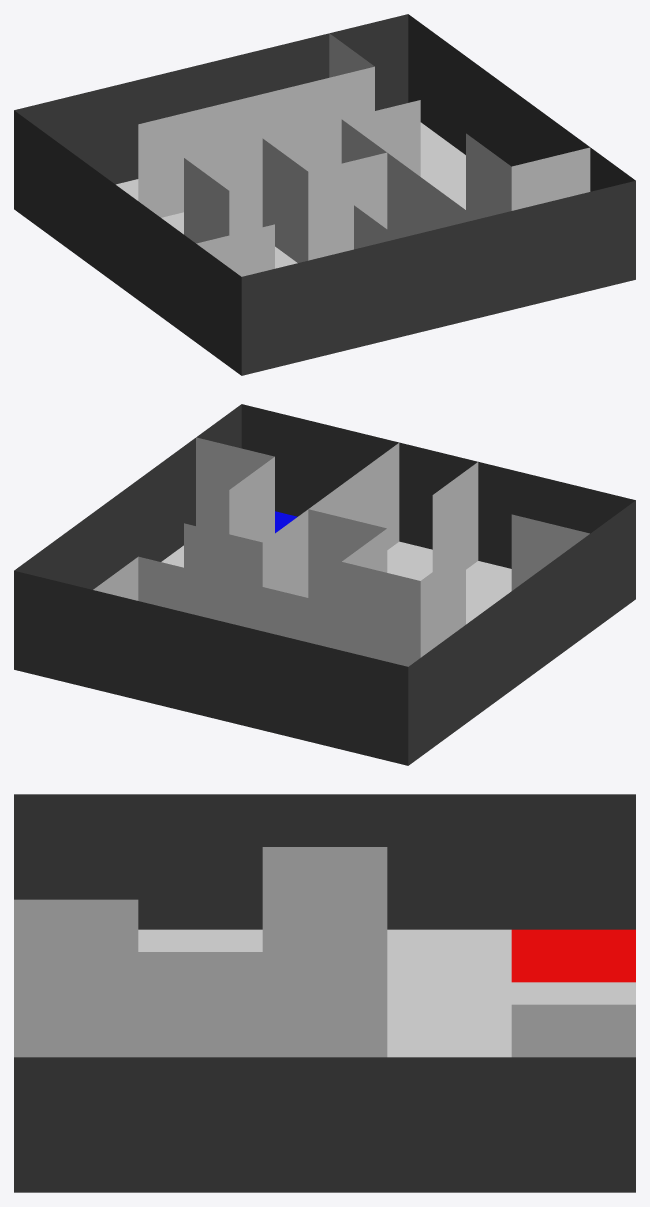
File: mazev2.dae
3 views of the same model, one above another, from view 1: azimuth 30°, elevation 25°; view 2: azimuth 150°, elevation 25°; view 3: azimuth 270°, elevation 25° (orthographic). The views are drawn at different scales.
Parts seen in each view (by area): view 1: 平面; view 2: 平面; view 3: 平面.
Boxes of the visible parts, x1,y1,x2,y2 form: 平面: (14, 14, 635, 375); 平面: (14, 404, 635, 765); 平面: (14, 794, 635, 1192).
Bounding box in the file's own units: 6.25 × 6.25 × 1.5.
